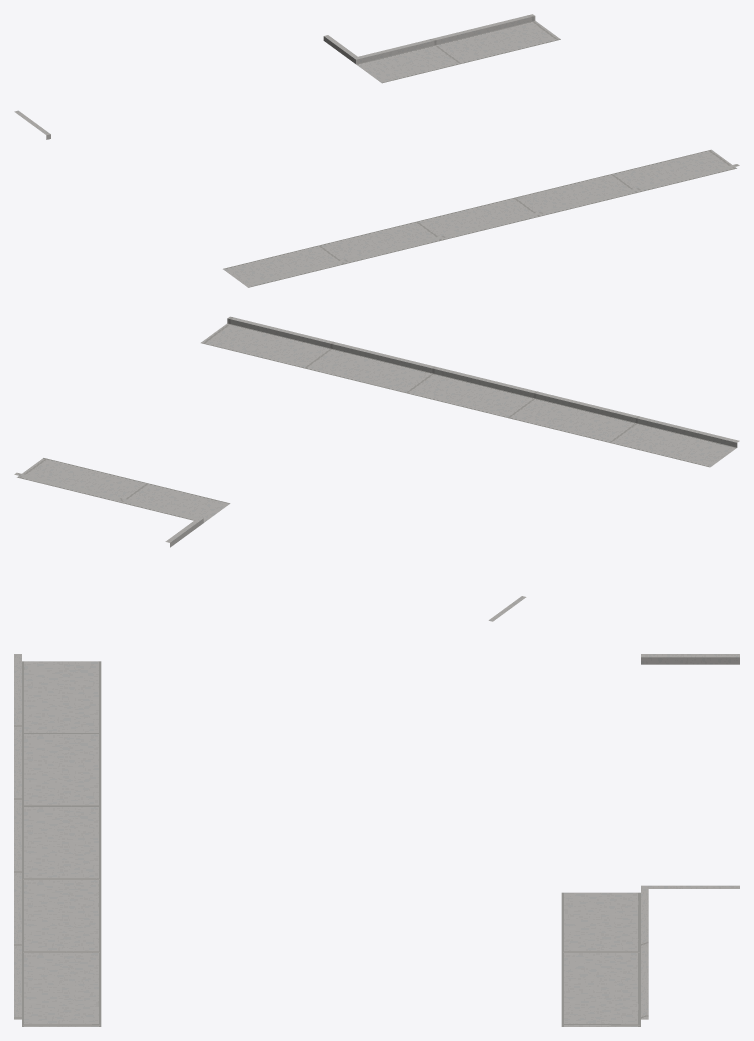
The model's file is kd_stage_135ded_3_12_exterior.glb.
3 views of the same model, one above another, from view 1: azimuth 30°, elevation 25°; view 2: azimuth 150°, elevation 25°; view 3: azimuth 270°, elevation 25° (orthographic). The views are drawn at different scales.
Visible parts, largest first — view 1: kd_stage_135ded_3_12_exterior; view 2: kd_stage_135ded_3_12_exterior; view 3: kd_stage_135ded_3_12_exterior.
Part boxes in pixels (bbox=[...]): kd_stage_135ded_3_12_exterior: bbox=[14, 14, 739, 287]; kd_stage_135ded_3_12_exterior: bbox=[14, 316, 739, 621]; kd_stage_135ded_3_12_exterior: bbox=[14, 654, 739, 1026].
Bounding box in the file's own units: 5.45 × 0.05 × 4.58.
Materials: 1 (1 with a texture image).
